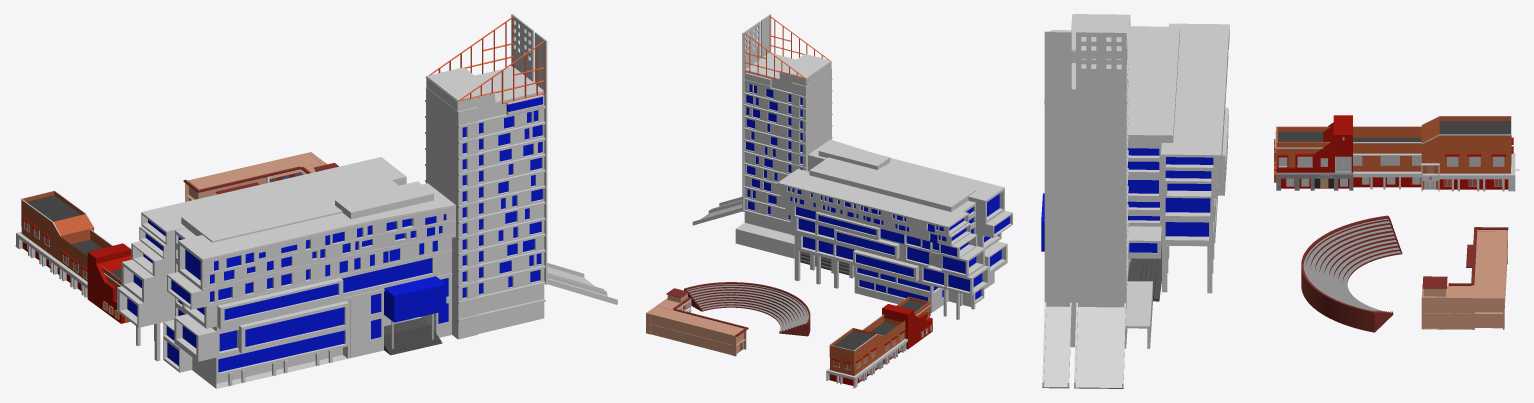
3 views of the same model, side by side, from view 1: azimuth 30°, elevation 25°; view 2: azimuth 150°, elevation 25°; view 3: azimuth 270°, elevation 25° (orthographic). The views are drawn at different scales.
Parts seen in each view (by area): view 1: Cube.002, Building, black; view 2: Cube.002, black, Building; view 3: Cube.002, Building, black.
Boxes of the visible parts, x1,y1,x2,y2 form: Cube.002: [117, 14, 617, 388]; Building: [14, 190, 131, 323]; black: [183, 152, 338, 201]; Cube.002: [692, 14, 1012, 319]; black: [646, 282, 810, 356]; Building: [826, 296, 932, 388]; Cube.002: [1041, 14, 1229, 388]; Building: [1274, 115, 1519, 191]; black: [1301, 215, 1508, 332].
Bounding box in the file's own units: 2233 × 1422 × 1922.
